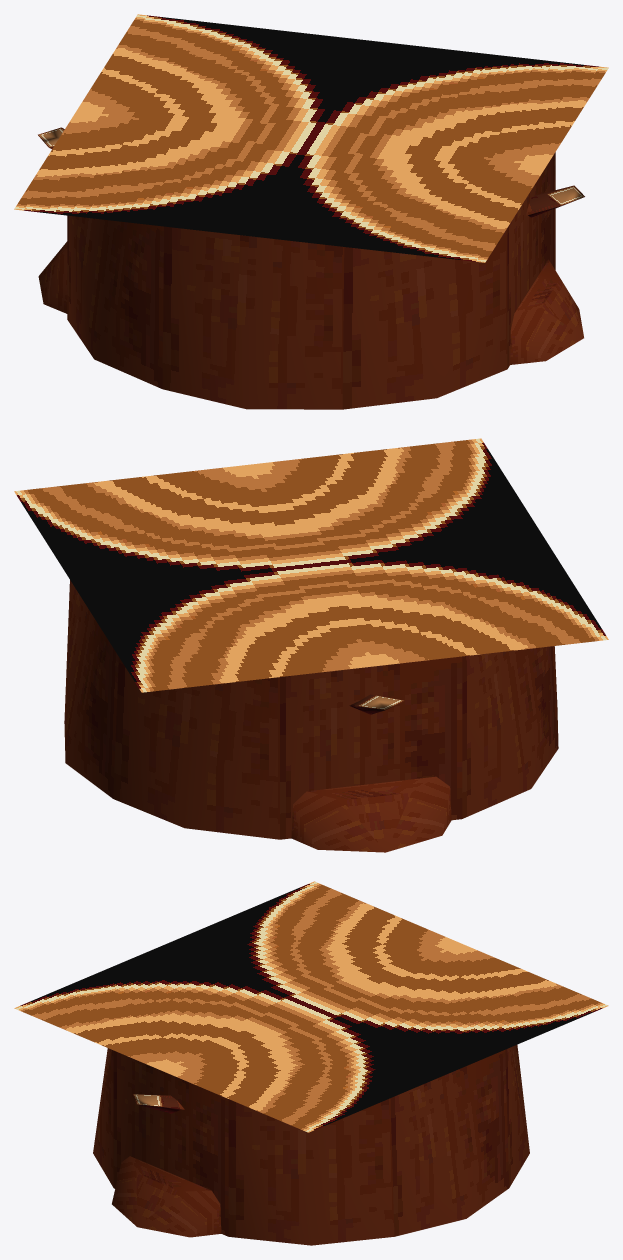
The picture shows the model from 3 angles, top to bottom: view 1: azimuth 30°, elevation 25°; view 2: azimuth 150°, elevation 25°; view 3: azimuth 270°, elevation 25°; orthographic projection. The views are drawn at different scales.
Visible parts, largest first — view 1: 3184IMFY06_06; view 2: 3184IMFY06_06; view 3: 3184IMFY06_06.
Part boxes in pixels (left/top/right/bottom): 3184IMFY06_06: left=14, top=14, right=608, bottom=409; 3184IMFY06_06: left=14, top=438, right=608, bottom=852; 3184IMFY06_06: left=14, top=881, right=608, bottom=1245.
Size of the model in its own units: 2.76 by 0.75 by 2.76.
Materials: 3 (3 with a texture image).
